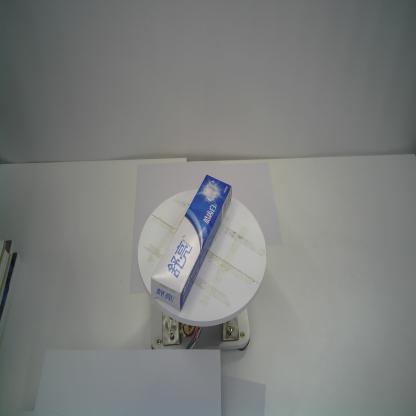Personal Hygiene: (148, 172, 233, 312)
